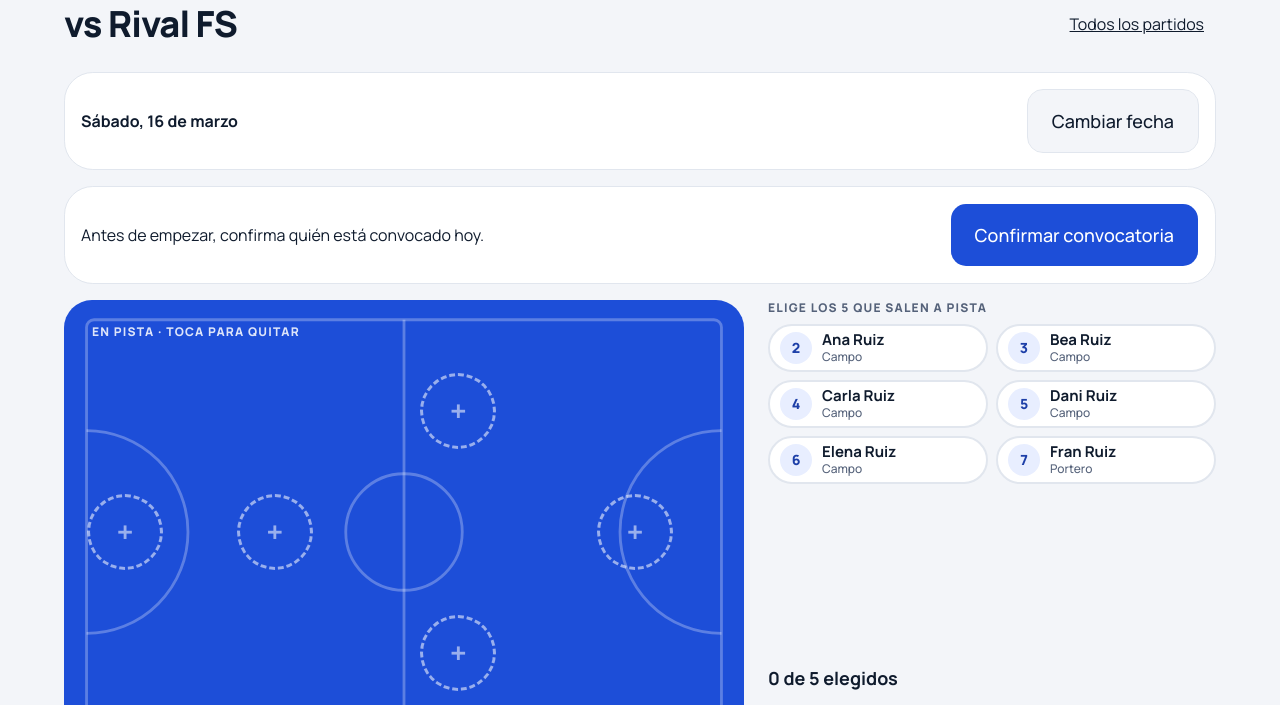
Test: cambiar la fecha de un partido programado › guarda el nuevo día y lo muestra al recargar
Click the button "Cambiar fecha" at (1113, 121), box [1027, 89, 1199, 153]
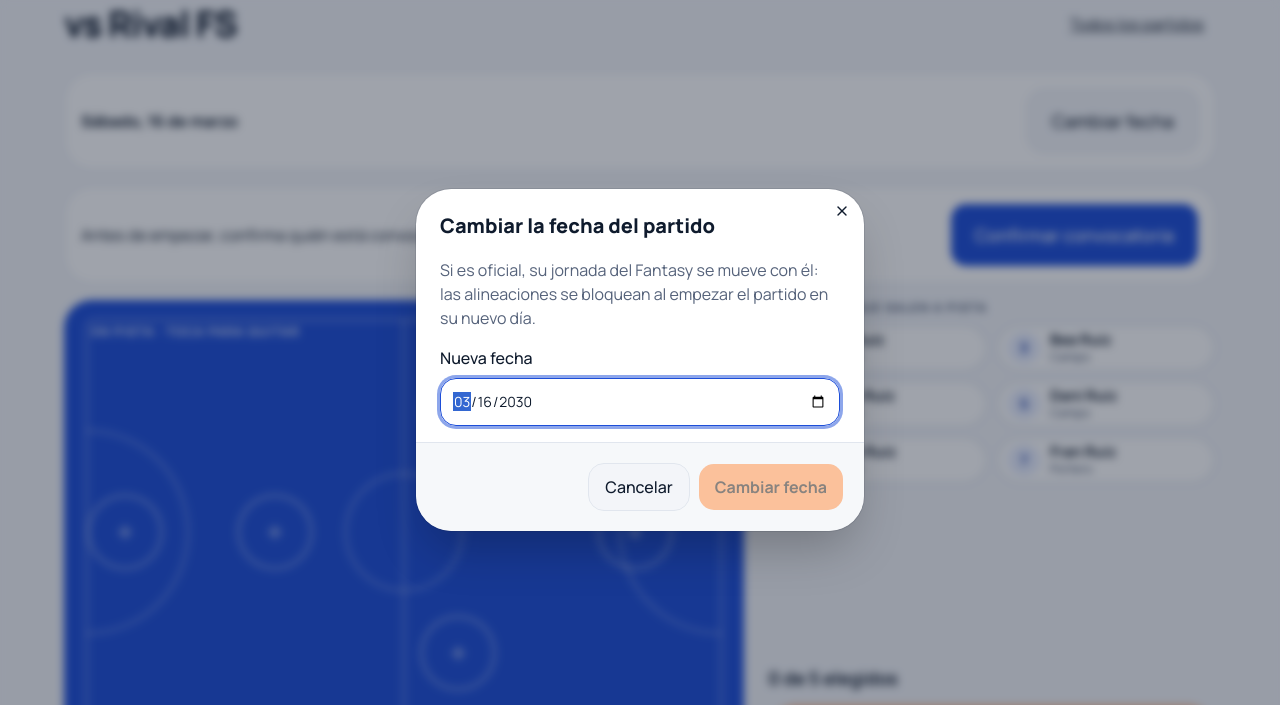
Type "2030-03-23" into the date field labelled "Nueva fecha" at (640, 402), box [440, 378, 840, 426]
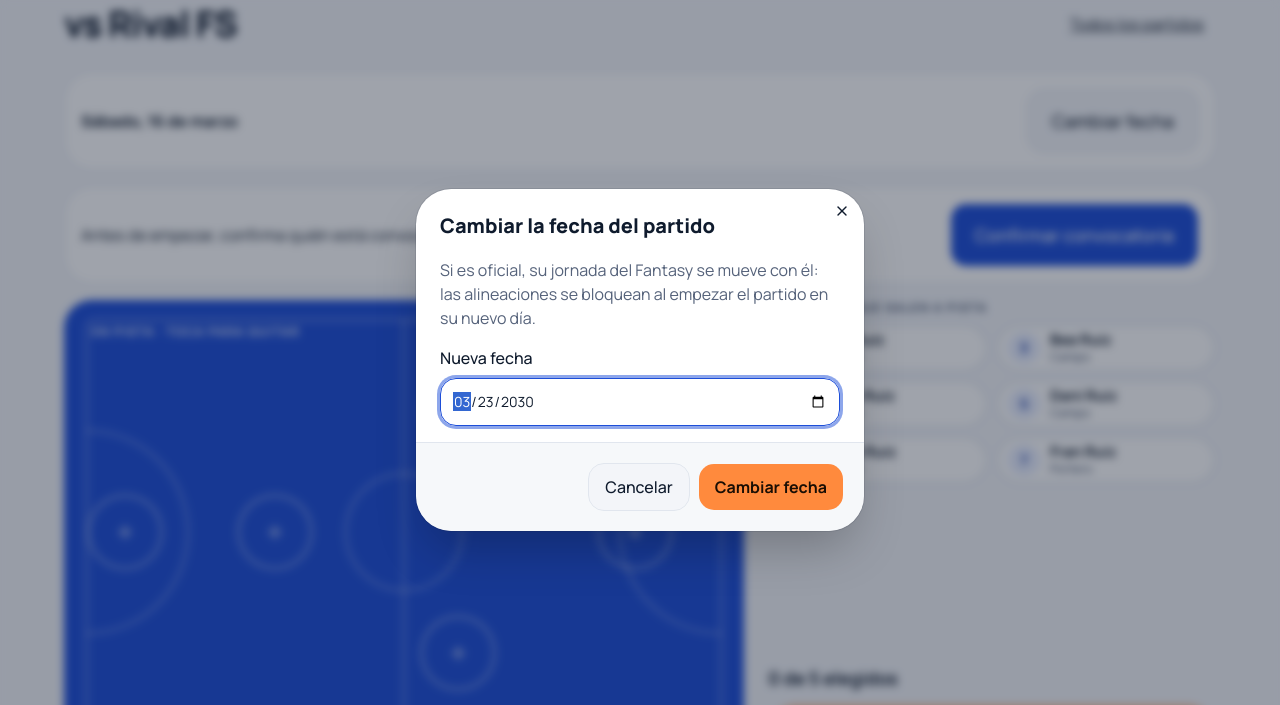
Click the button "Cambiar fecha" at (771, 487), box [698, 463, 844, 511]
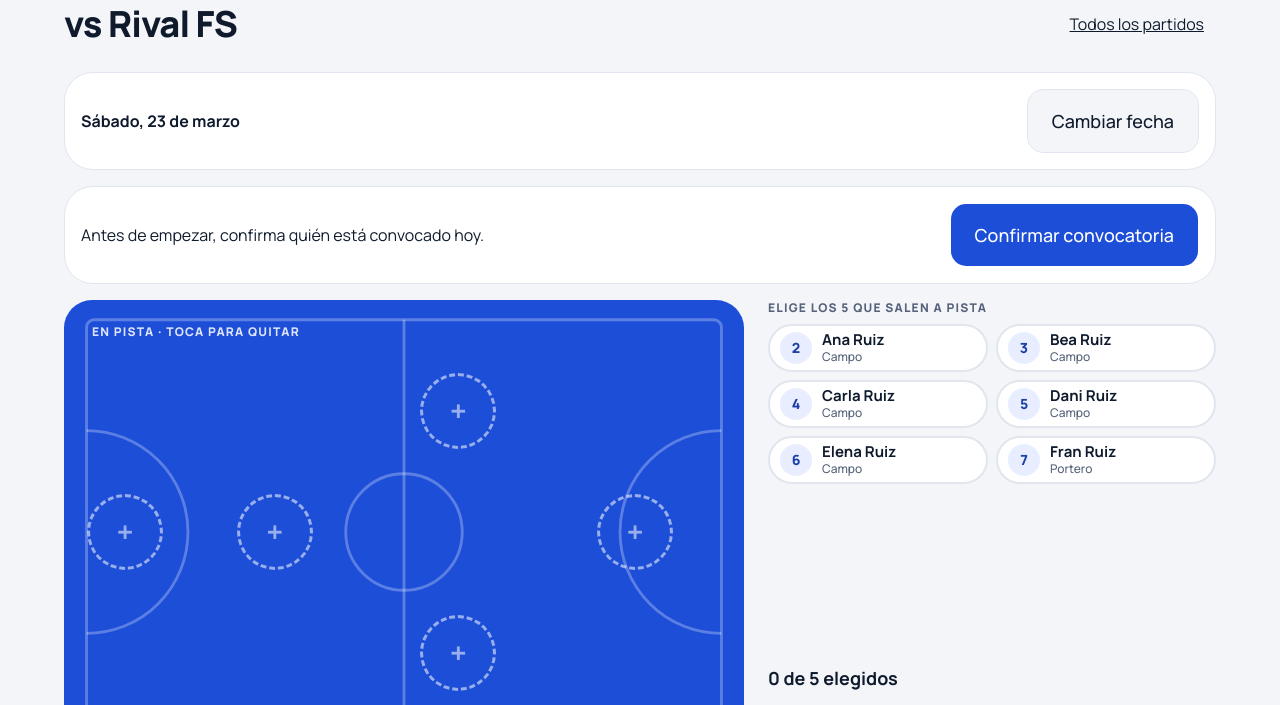
Check: the dialog is gone
Check: the text "sábado, 23 de marzo" is shown, box [81, 109, 240, 133]
